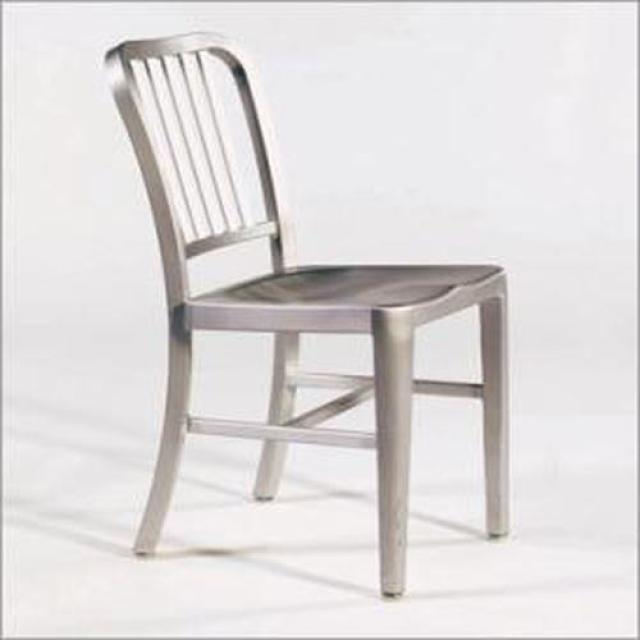chair: (105, 32, 511, 600)
